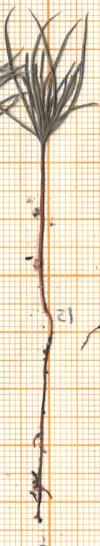flower: (0, 4, 100, 152)
root: (25, 262, 56, 526)
stem: (27, 144, 52, 260)
